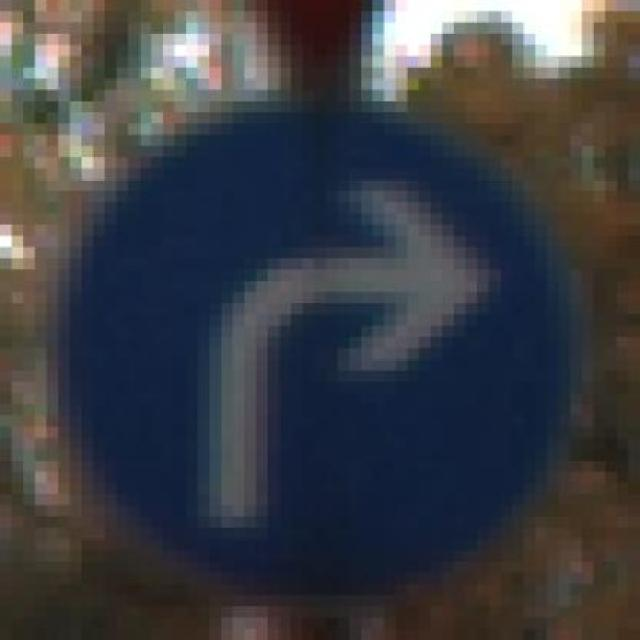Turn right ahead: (58, 67, 582, 584)
